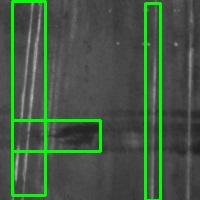inclusion: (12, 120, 100, 151)
scratches: (13, 1, 45, 195), (145, 3, 160, 200), (185, 1, 194, 199)
